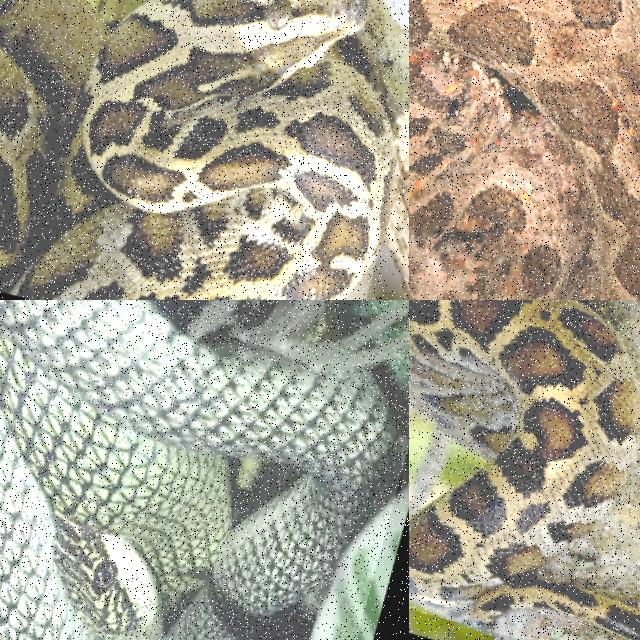Chrysopelea ornata: (0, 300, 400, 639)
Daboia siamensis: (409, 0, 639, 299)
Python bivittatus: (0, 0, 396, 299), (409, 300, 639, 639)
